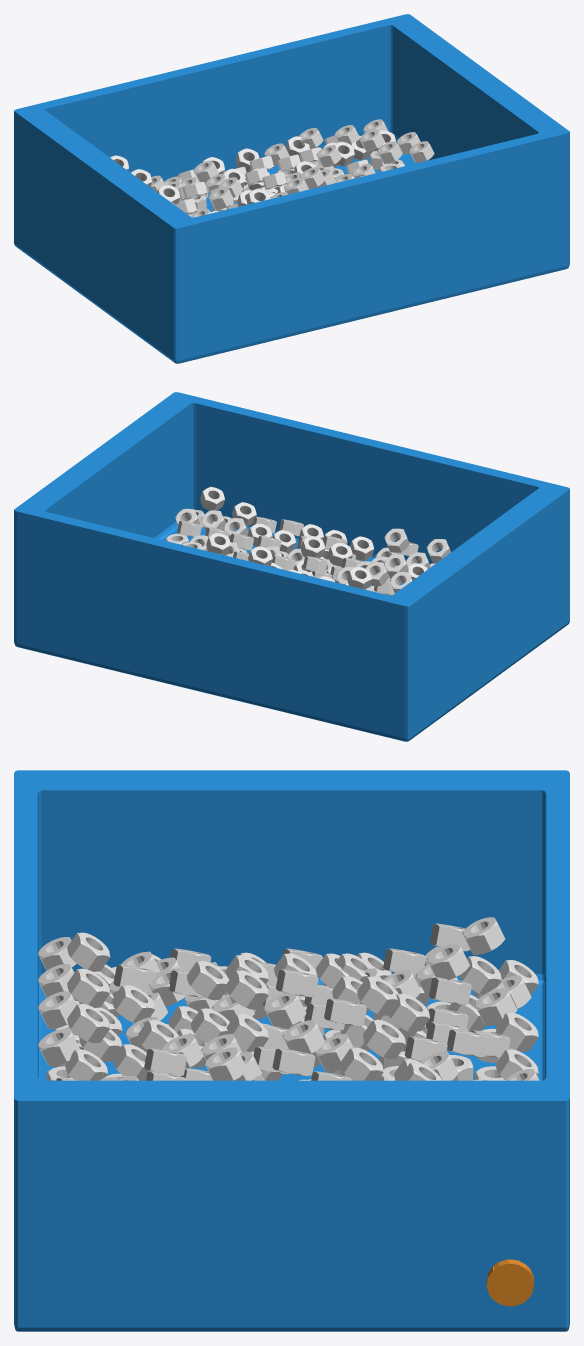
Rendered from Bin_with_M20nuts_Blue.glb.
3 renders of one model, top to bottom at view 1: azimuth 30°, elevation 25°; view 2: azimuth 150°, elevation 25°; view 3: azimuth 270°, elevation 25°, orthographic. The views are drawn at different scales.
Visible parts, largest first — view 1: Bin; view 2: Bin, ISO_4032_M20_STEEL_GRADE_A_HEXAGON_NUT.125, ISO_4032_M20_STEEL_GRADE_A_HEXAGON_NUT.206, ISO_4032_M20_STEEL_GRADE_A_HEXAGON_NUT.079, ISO_4032_M20_STEEL_GRADE_A_HEXAGON_NUT.182, ISO_4032_M20_STEEL_GRADE_A_HEXAGON_NUT.222, ISO_4032_M20_STEEL_GRADE_A_HEXAGON_NUT.209; view 3: Bin, RFID_tag, ISO_4032_M20_STEEL_GRADE_A_HEXAGON_NUT.191, ISO_4032_M20_STEEL_GRADE_A_HEXAGON_NUT.205, ISO_4032_M20_STEEL_GRADE_A_HEXAGON_NUT.206, ISO_4032_M20_STEEL_GRADE_A_HEXAGON_NUT.189, ISO_4032_M20_STEEL_GRADE_A_HEXAGON_NUT.204, ISO_4032_M20_STEEL_GRADE_A_HEXAGON_NUT.220, ISO_4032_M20_STEEL_GRADE_A_HEXAGON_NUT.219, ISO_4032_M20_STEEL_GRADE_A_HEXAGON_NUT.193, ISO_4032_M20_STEEL_GRADE_A_HEXAGON_NUT.225, ISO_4032_M20_STEEL_GRADE_A_HEXAGON_NUT.196 (+32 smaller).
Part boxes in pixels (x1,y1,x2,y2): Bin: (14, 14, 569, 363); Bin: (14, 392, 569, 741); ISO_4032_M20_STEEL_GRADE_A_HEXAGON_NUT.125: (200, 487, 224, 510); ISO_4032_M20_STEEL_GRADE_A_HEXAGON_NUT.206: (384, 528, 409, 552); ISO_4032_M20_STEEL_GRADE_A_HEXAGON_NUT.079: (350, 536, 374, 560); ISO_4032_M20_STEEL_GRADE_A_HEXAGON_NUT.182: (300, 535, 325, 558); ISO_4032_M20_STEEL_GRADE_A_HEXAGON_NUT.222: (347, 566, 371, 589); ISO_4032_M20_STEEL_GRADE_A_HEXAGON_NUT.209: (206, 532, 230, 555); Bin: (14, 770, 569, 1331); RFID_tag: (486, 1259, 534, 1306); ISO_4032_M20_STEEL_GRADE_A_HEXAGON_NUT.191: (226, 970, 268, 1009); ISO_4032_M20_STEEL_GRADE_A_HEXAGON_NUT.205: (67, 932, 110, 971); ISO_4032_M20_STEEL_GRADE_A_HEXAGON_NUT.206: (67, 1004, 110, 1043); ISO_4032_M20_STEEL_GRADE_A_HEXAGON_NUT.189: (363, 1019, 405, 1058); ISO_4032_M20_STEEL_GRADE_A_HEXAGON_NUT.204: (67, 968, 110, 1007); ISO_4032_M20_STEEL_GRADE_A_HEXAGON_NUT.220: (187, 961, 228, 1000); ISO_4032_M20_STEEL_GRADE_A_HEXAGON_NUT.219: (112, 985, 155, 1023); ISO_4032_M20_STEEL_GRADE_A_HEXAGON_NUT.193: (357, 976, 398, 1015); ISO_4032_M20_STEEL_GRADE_A_HEXAGON_NUT.225: (462, 917, 505, 954); ISO_4032_M20_STEEL_GRADE_A_HEXAGON_NUT.196: (388, 993, 429, 1032).
Bounding box in the file's own units: 0.399 × 0.13 × 0.28.
